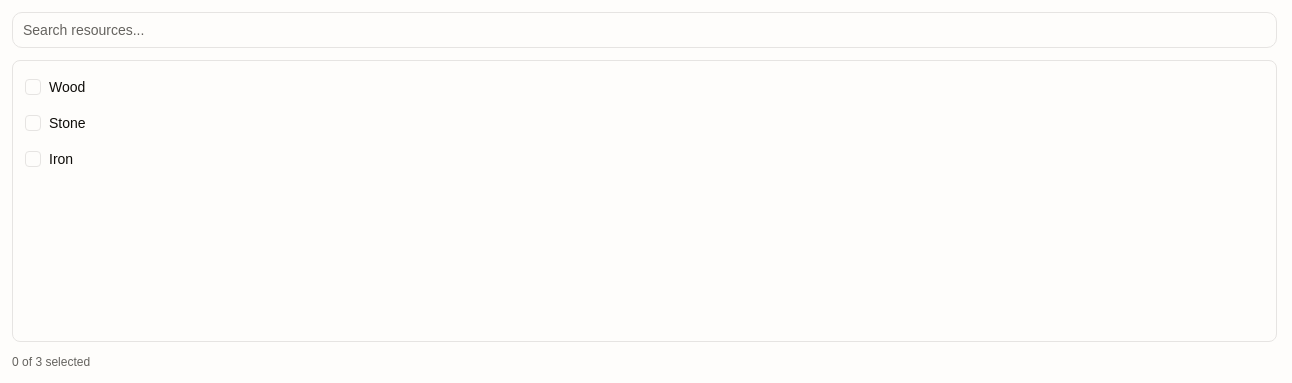
Test: SearchableResourcePicker › filters resources by search query
Type "stone" into the field with placeholder "Search resources...".
click(644, 30); type("stone")  # box [12,12,1277,48]
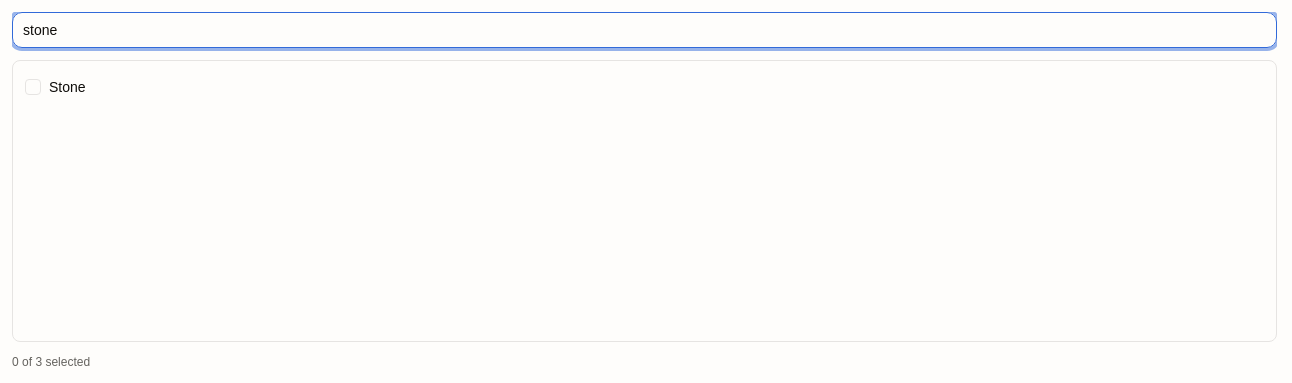
Expected: the text "Stone" is shown, [49,77,86,97]
Result: the text "Wood" is gone
Result: the text "Iron" is gone
